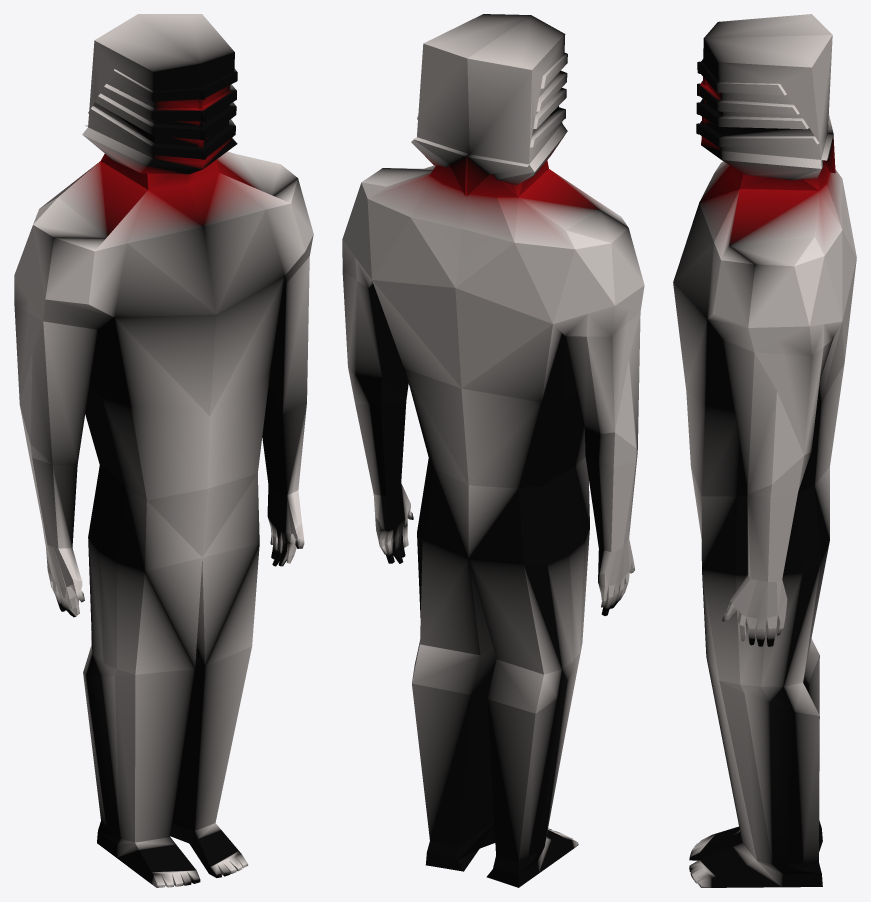
File: cara.fbx
3 renders of one model, left to right at view 1: azimuth 30°, elevation 25°; view 2: azimuth 150°, elevation 25°; view 3: azimuth 270°, elevation 25°, orthographic.
Parts seen in each view (by area): view 1: Cube.001; view 2: Cube.001; view 3: Cube.001.
Part boxes in pixels (x1,y1,x2,y2): Cube.001: [14, 14, 313, 887]; Cube.001: [342, 14, 644, 887]; Cube.001: [673, 14, 856, 887].
Bounding box in the file's own units: 504 × 1429 × 287.
